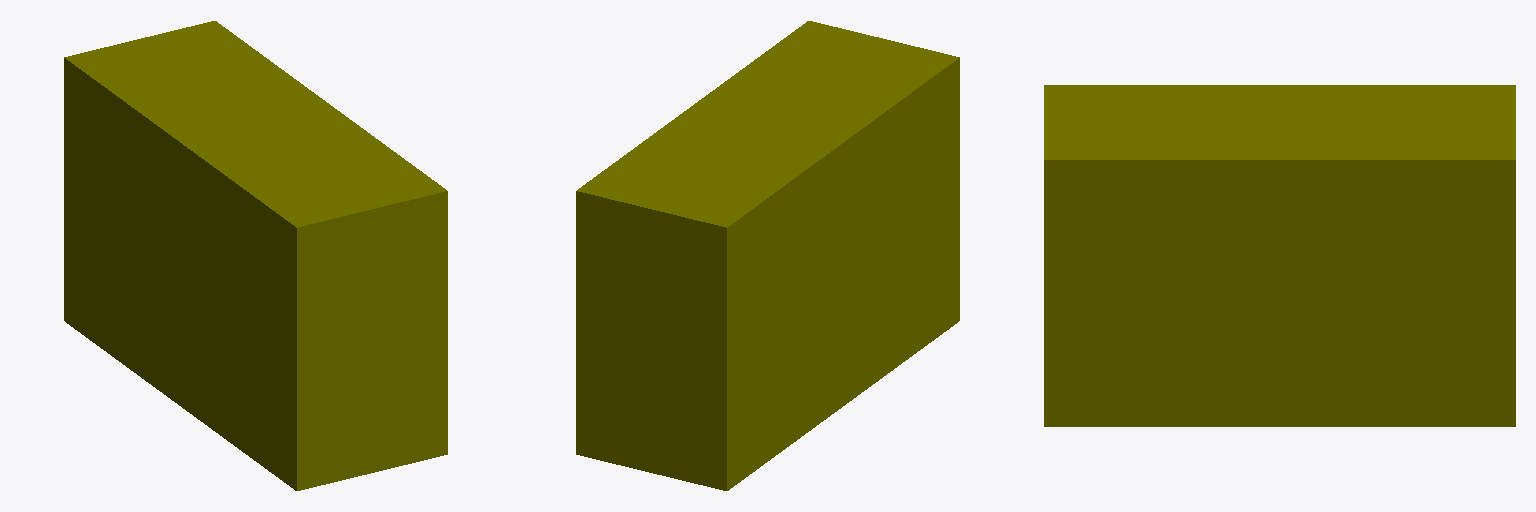
robot.urdf — cube:
<?xml version="1.0"?>
 <robot name="cube">
   <material name="golden">
     <color rgba="0.50196 0.50196 0 1"/>
   </material>
   <link name="base_link">
     <visual>
       <geometry>
         <box size="0.16 0.10 0.06"/>
       </geometry>
       <origin xyz="0 0 0.1067185" rpy="1.5707963 0 1.5707963"/>
       <material name="golden"/>
     </visual>
     <inertial>
       <mass value="0"/>
       <inertia ixx="1.0" ixy="0.0" ixz="0.0" iyy="1.0" iyz="0.0" izz="1.0"/>
     </inertial>
   </link>
 </robot>

--- What the picture shows (computed from the rendered views, not written in the file) ---
The picture shows the robot from 3 angles, left to right: view 1: azimuth 30°, elevation 25°; view 2: azimuth 150°, elevation 25°; view 3: azimuth 270°, elevation 25°; orthographic projection.
Model cube with 1 links and 0 joints (none), rooted at base_link, posed every joint at zero.
Links seen in each view (by area): view 1: base_link; view 2: base_link; view 3: base_link.
Link boxes in pixels (x1,y1,x2,y2): base_link: (64, 21, 447, 490); base_link: (576, 21, 959, 490); base_link: (1044, 85, 1515, 426).
Size in the robot's own frame: 0.06 by 0.16 by 0.1 metres.
Geometry: primitives only (box / cylinder / sphere), no mesh files.